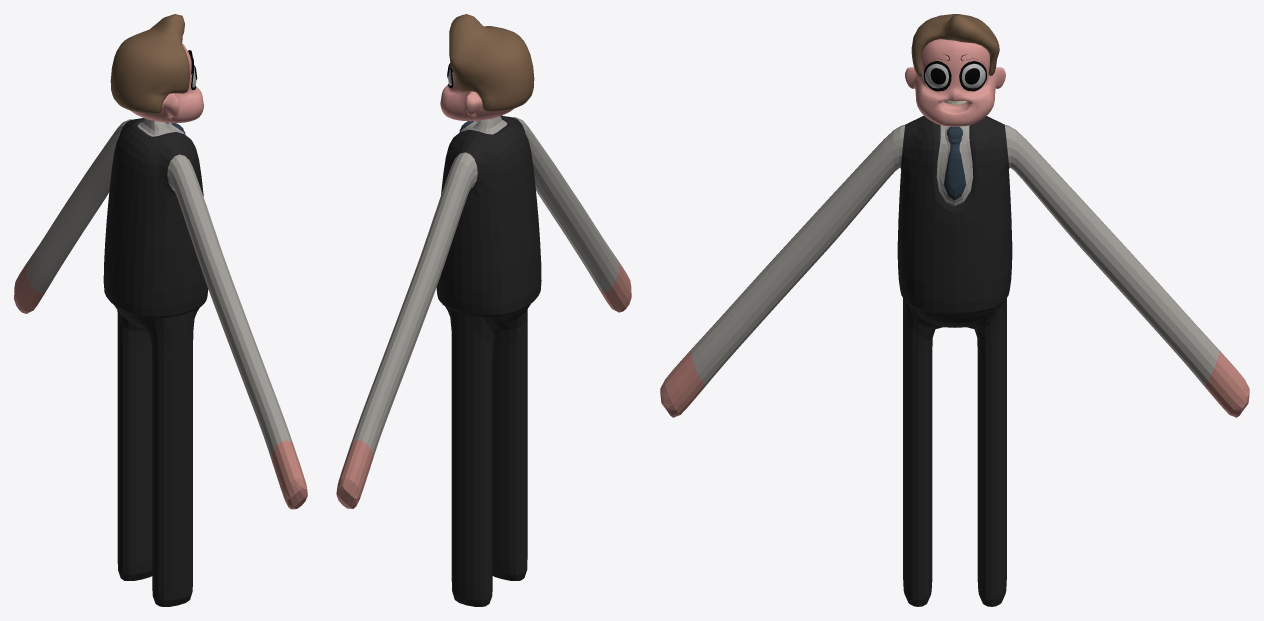
File: Player4.fbx
3 views of the same model, side by side, from view 1: azimuth 30°, elevation 25°; view 2: azimuth 150°, elevation 25°; view 3: azimuth 270°, elevation 25° (orthographic). The views are drawn at different scales.
Parts seen in each view (by area): view 1: shang; view 2: shang; view 3: shang.
Part boxes in pixels (x1,y1,x2,y2): shang: (14,14,307,606); shang: (336,14,631,606); shang: (660,14,1249,606).
Bounding box in the file's own units: 4.56 × 28.57 × 25.55.
